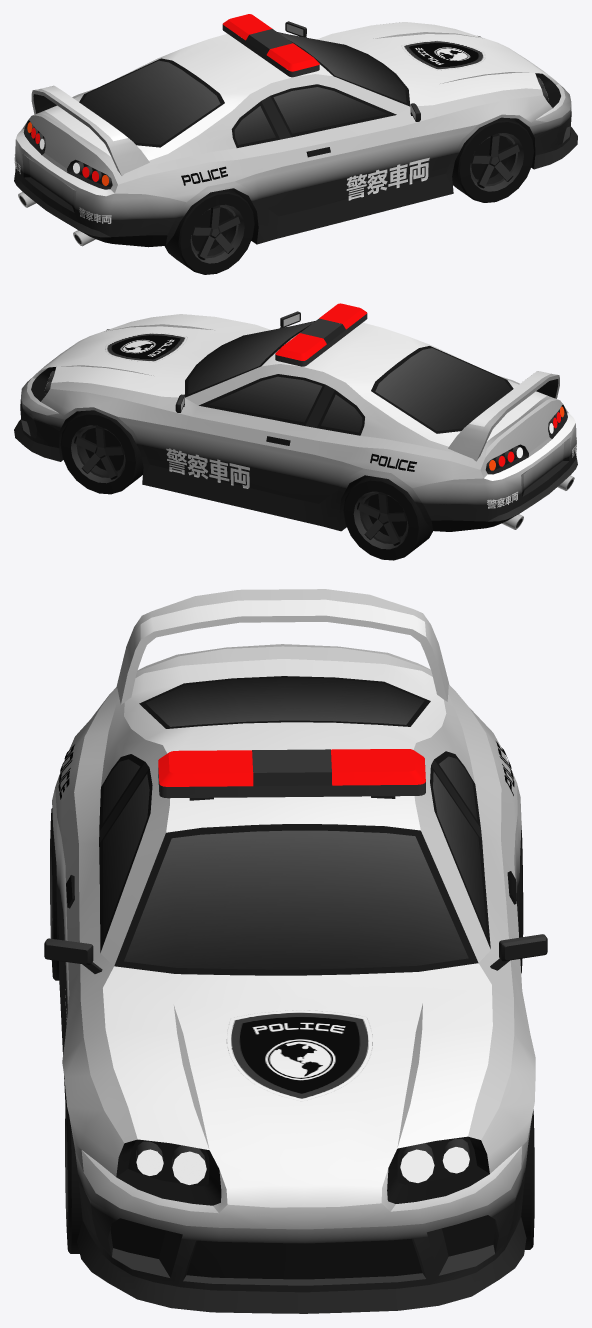
The model's file is RaceCar_094.glb.
3 renders of one model, top to bottom at view 1: azimuth 30°, elevation 25°; view 2: azimuth 150°, elevation 25°; view 3: azimuth 270°, elevation 25°, orthographic. The views are drawn at different scales.
Parts seen in each view (by area): view 1: RaceCar_094, wheel_2_RaceCar_094_Wheel_2R, wheel_1_RaceCar_094_Wheel_1R; view 2: RaceCar_094, wheel_3_RaceCar_094_Wheel_3L, wheel_0_RaceCar_094_Wheel_1L; view 3: RaceCar_094, wheel_1_RaceCar_094_Wheel_1R, wheel_0_RaceCar_094_Wheel_1L, wheel_2_RaceCar_094_Wheel_2R.
Part boxes in pixels (x1,y1,x2,y2): RaceCar_094: [14, 14, 577, 247]; wheel_2_RaceCar_094_Wheel_2R: [164, 189, 254, 274]; wheel_1_RaceCar_094_Wheel_1R: [452, 117, 534, 202]; RaceCar_094: [14, 303, 577, 531]; wheel_3_RaceCar_094_Wheel_3L: [343, 476, 432, 560]; wheel_0_RaceCar_094_Wheel_1L: [60, 410, 143, 494]; RaceCar_094: [44, 589, 547, 1313]; wheel_1_RaceCar_094_Wheel_1R: [65, 1096, 82, 1253]; wheel_0_RaceCar_094_Wheel_1L: [521, 1109, 534, 1249]; wheel_2_RaceCar_094_Wheel_2R: [50, 808, 59, 980].
Size of the model in its own units: 4.44 by 1.36 by 1.92.
3 materials, 3 textured.
